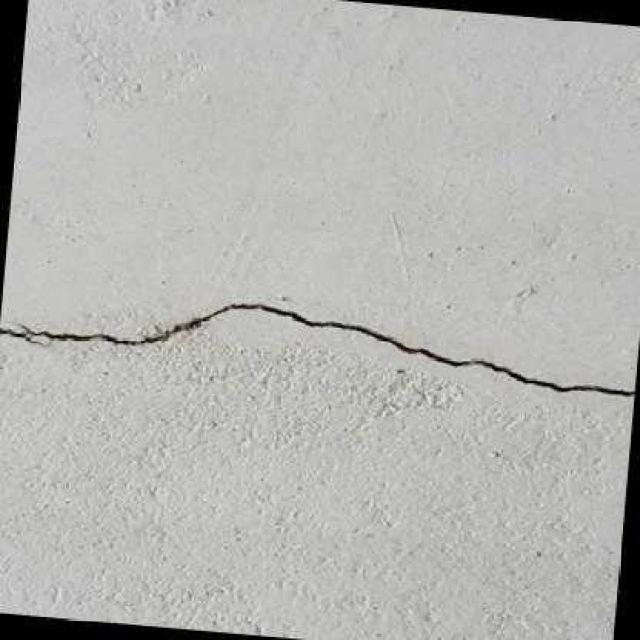D00: (15, 302, 635, 398), (0, 326, 44, 347)
